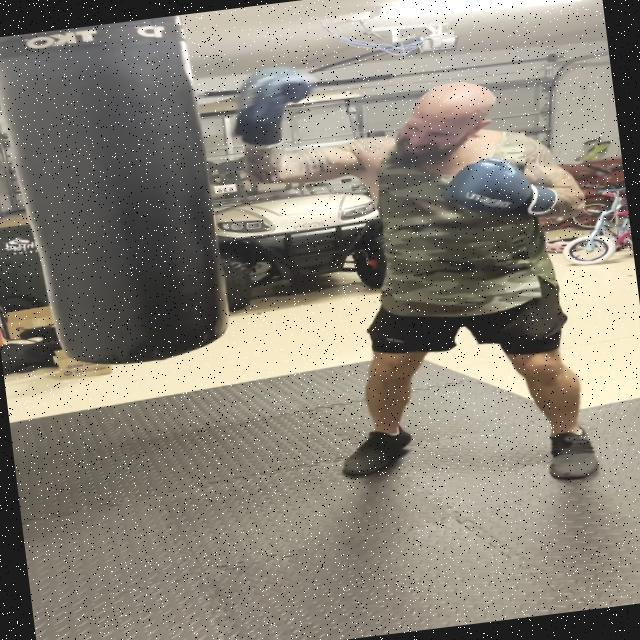bag: (0, 14, 233, 388)
uppercut: (225, 33, 587, 266)
